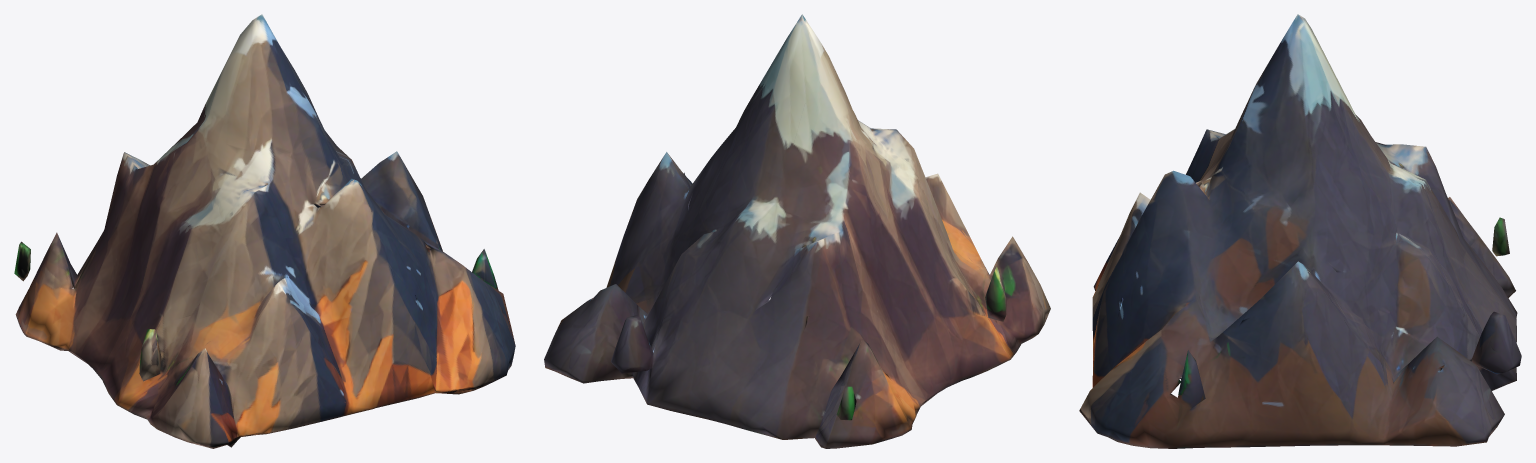
The model's file is Earth_Mountain.fbx.
3 renders of one model, left to right at view 1: azimuth 30°, elevation 25°; view 2: azimuth 150°, elevation 25°; view 3: azimuth 270°, elevation 25°, orthographic. The views are drawn at different scales.
Visible parts, largest first — view 1: Mesh1_Mesh1.005; view 2: Mesh1_Mesh1.005; view 3: Mesh1_Mesh1.005.
Boxes of the visible parts, x1=… form: Mesh1_Mesh1.005: x1=14, y1=14, x2=515, y2=448; Mesh1_Mesh1.005: x1=544, y1=14, x2=1050, y2=448; Mesh1_Mesh1.005: x1=1079, y1=14, x2=1521, y2=448.
Size of the model in its own units: 22.54 by 20 by 23.
Materials: 1 (1 with a texture image).
